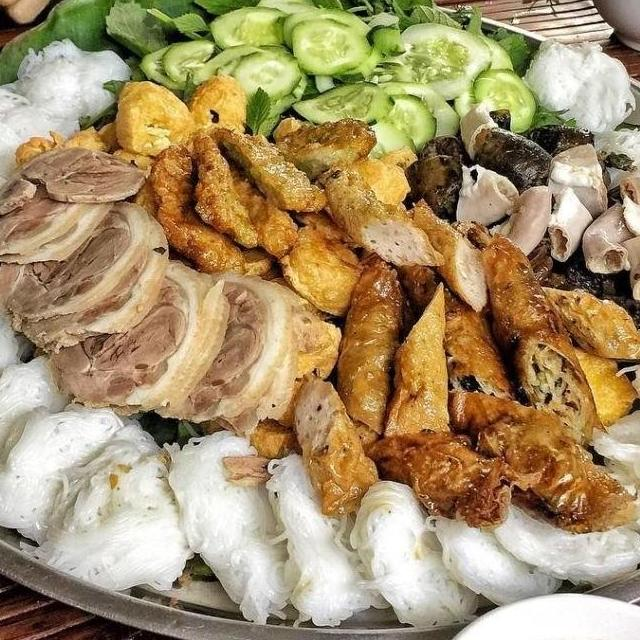bun: (0, 264, 194, 594), (0, 26, 148, 260), (160, 420, 310, 633), (256, 439, 414, 635), (329, 470, 501, 640), (504, 24, 640, 137), (579, 323, 640, 547)
bun dau: (0, 13, 640, 640)
cha com: (120, 117, 462, 317)
cha gio: (476, 223, 628, 440), (440, 383, 640, 539), (394, 256, 526, 409), (353, 425, 520, 533), (282, 362, 388, 527), (378, 273, 463, 445)
dau hu: (111, 76, 200, 156), (174, 70, 253, 141)
doi sun: (464, 112, 554, 192), (402, 127, 474, 218), (508, 116, 604, 160)
thit heo: (35, 241, 246, 433), (0, 191, 185, 379), (170, 257, 306, 443), (0, 140, 156, 281)
